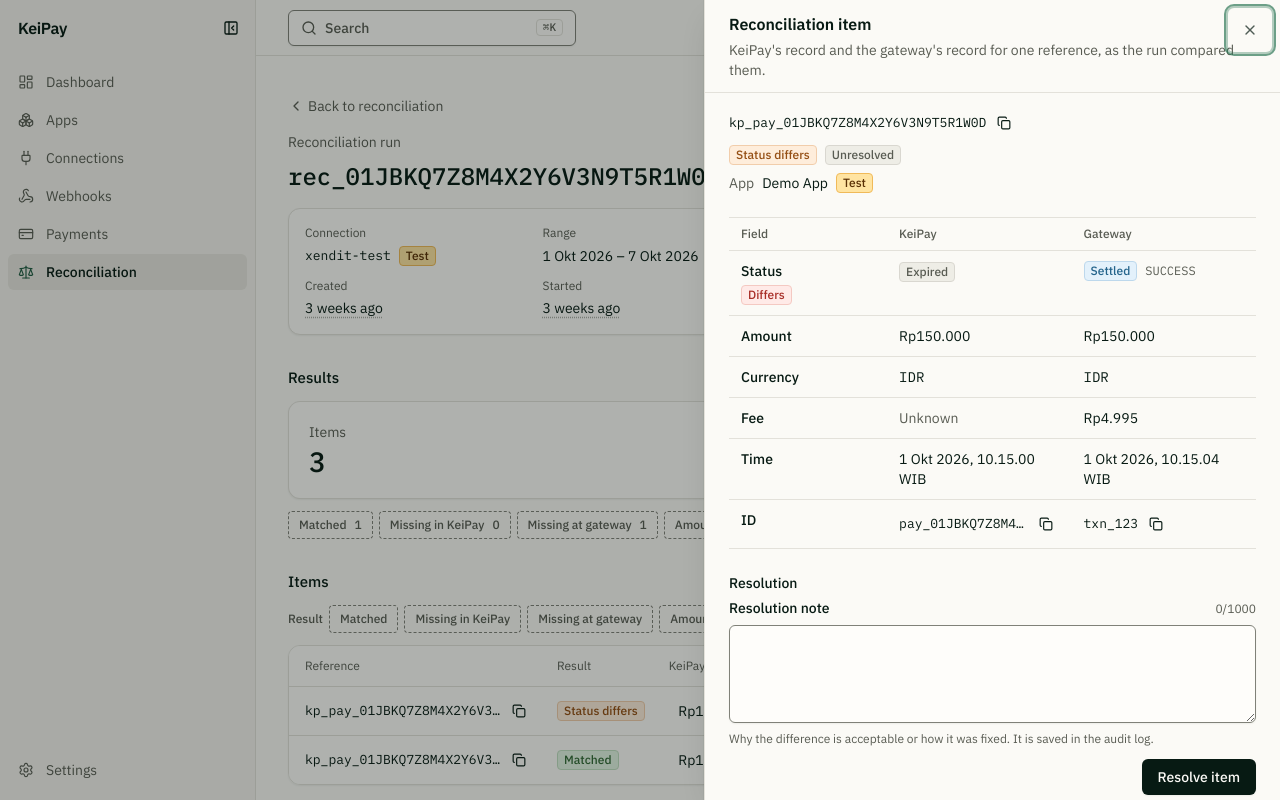
Test case: Item sheet › marks a status difference but not PAID against SETTLED
This screenshot has width=1280, height=800.
Check: the row "Status Differs Expired Settled SUCCESS" is shown, box [729,251,1256,316]
Check: the row "Fee Unknown Rp4.995" is shown, box [729,398,1256,438]
Press Escape
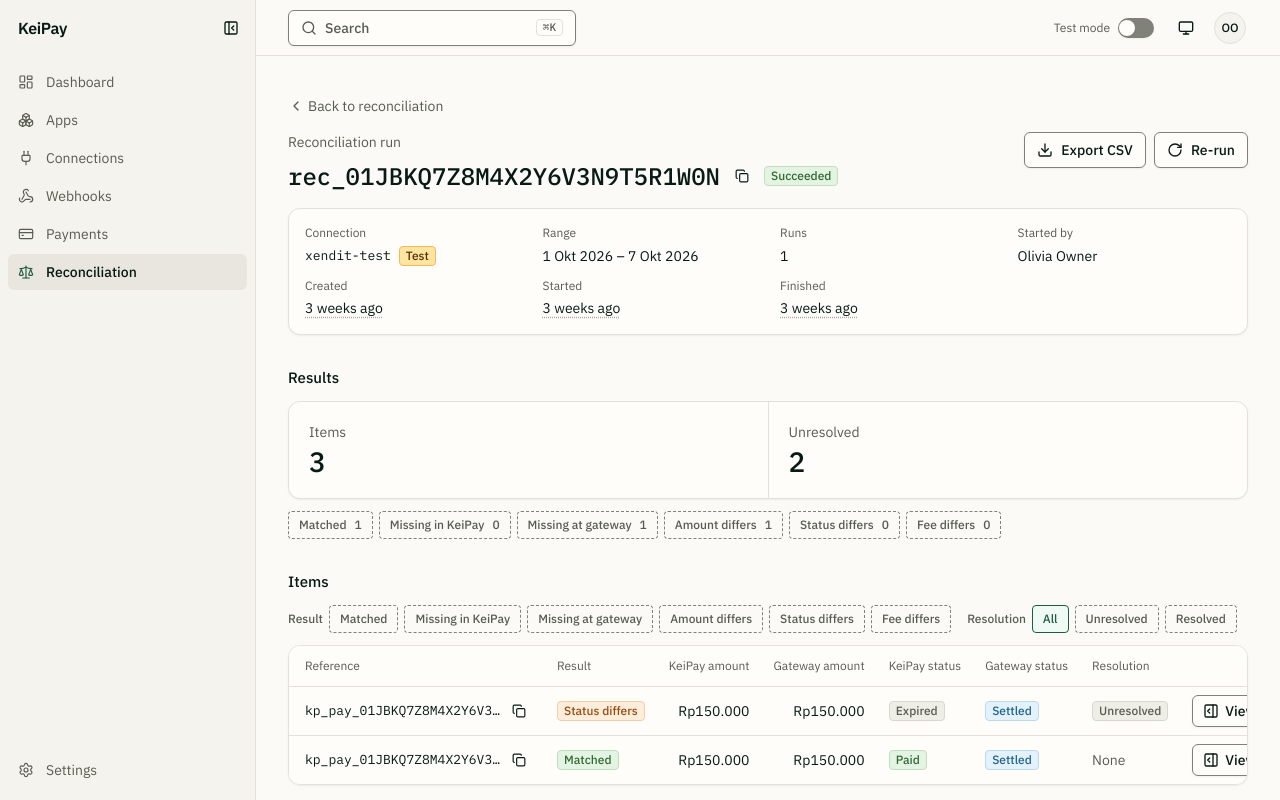
Click the button with aria-label "View item": [1230, 760] box [1192,744,1268,776]
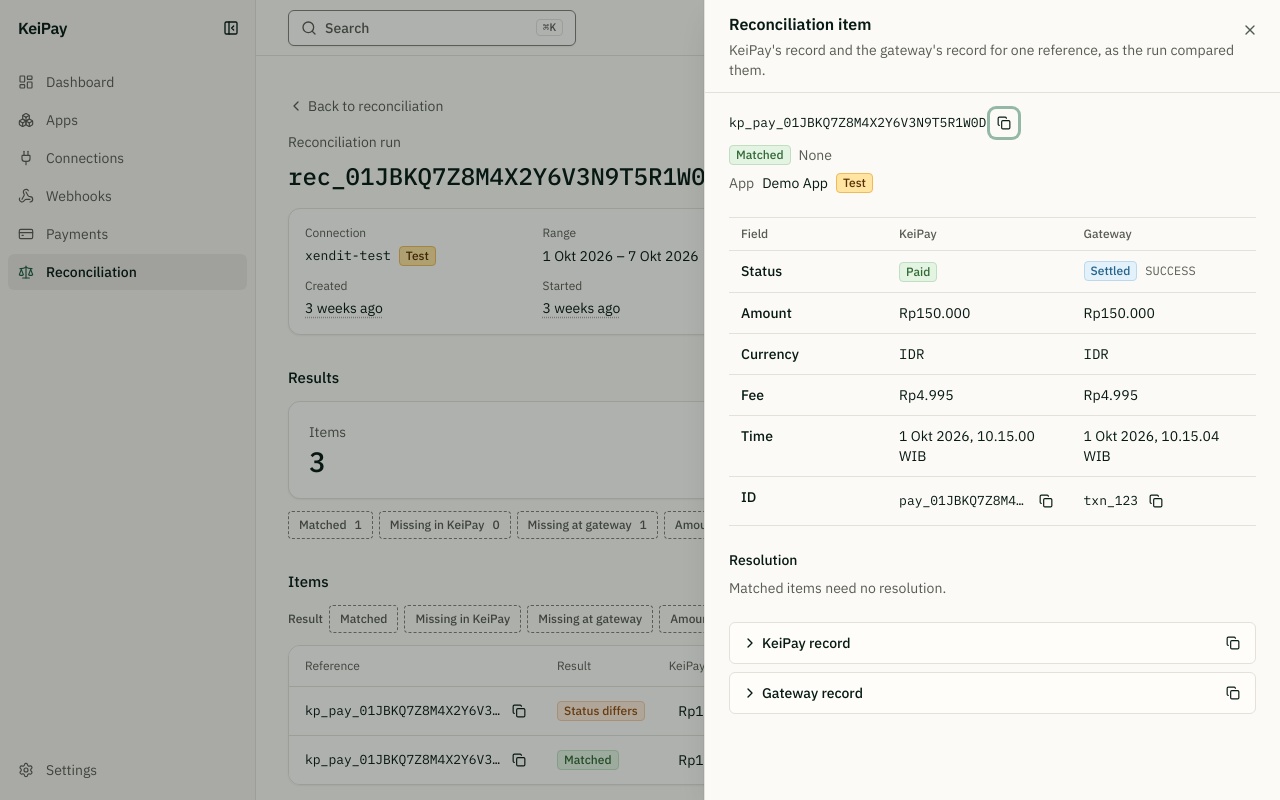
Check: the row "Status Paid Settled SUCCESS" does not show "Differs", box [729,251,1256,292]
Check: the text "Matched items need no resolution." is shown, box [729,579,946,597]
